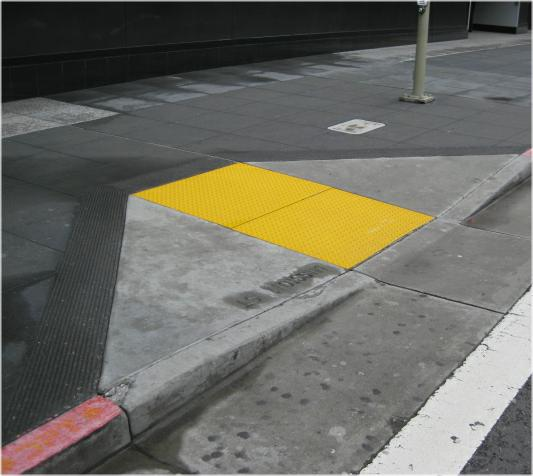ramp: (51, 166, 511, 348)
